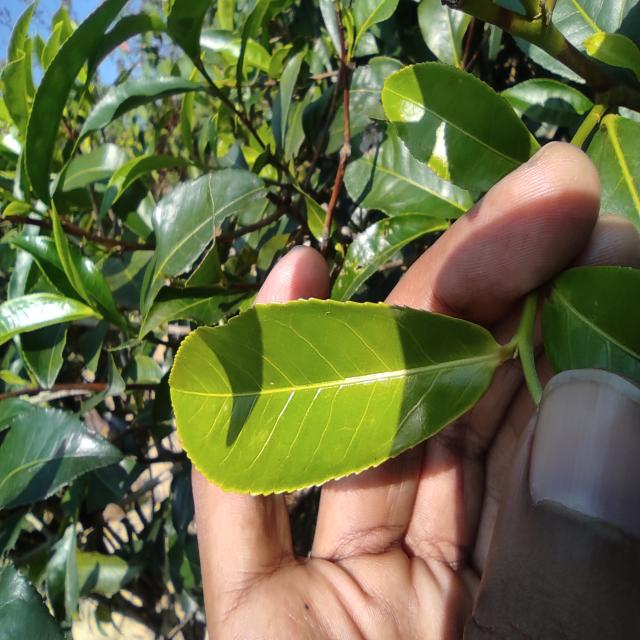Category C(4-7 days): (157, 289, 517, 504)
